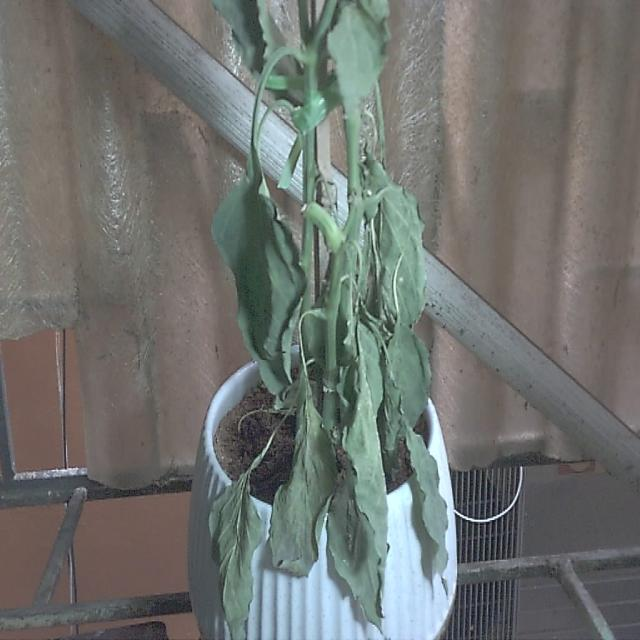Leaf: (212, 150, 304, 394), (270, 373, 337, 575), (210, 470, 261, 639), (328, 3, 389, 113), (404, 430, 448, 575)
